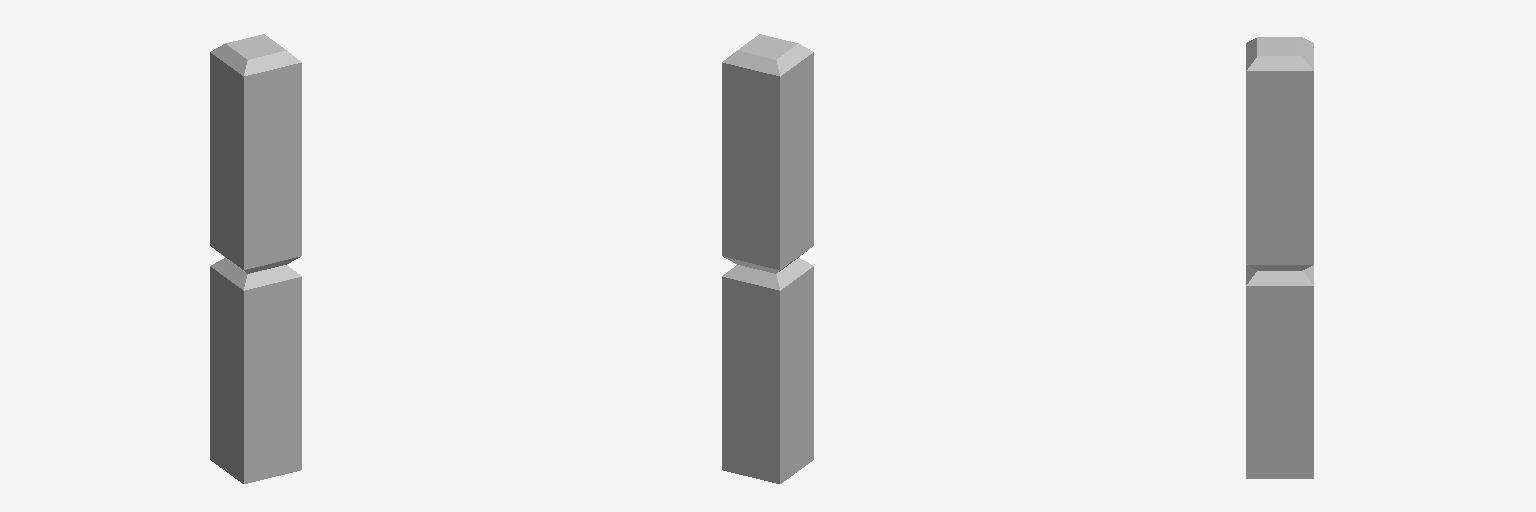
Rendered from pillar_A.obj.
3 renders of one model, left to right at view 1: azimuth 30°, elevation 25°; view 2: azimuth 150°, elevation 25°; view 3: azimuth 270°, elevation 25°, orthographic.
Visible parts, largest first — view 1: pillar_A_Cube.149; view 2: pillar_A_Cube.149; view 3: pillar_A_Cube.149.
Part boxes in pixels (x1,y1,x2,y2): pillar_A_Cube.149: (210, 34, 301, 483); pillar_A_Cube.149: (722, 34, 813, 483); pillar_A_Cube.149: (1246, 37, 1313, 478).
Size of the model in its own units: 0.6 by 4.1 by 0.6.